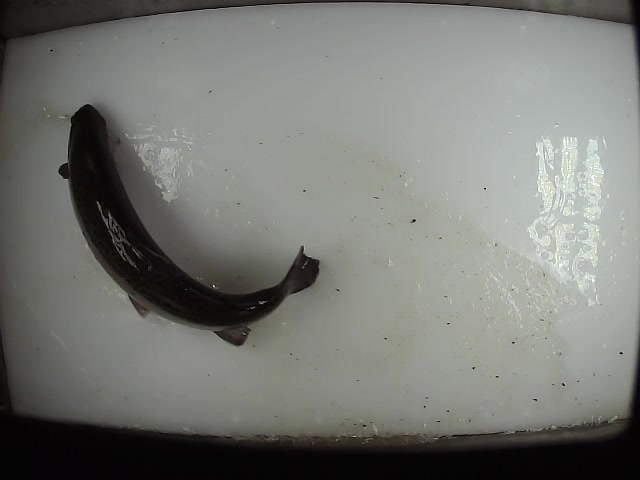fish: (54, 102, 322, 350)
